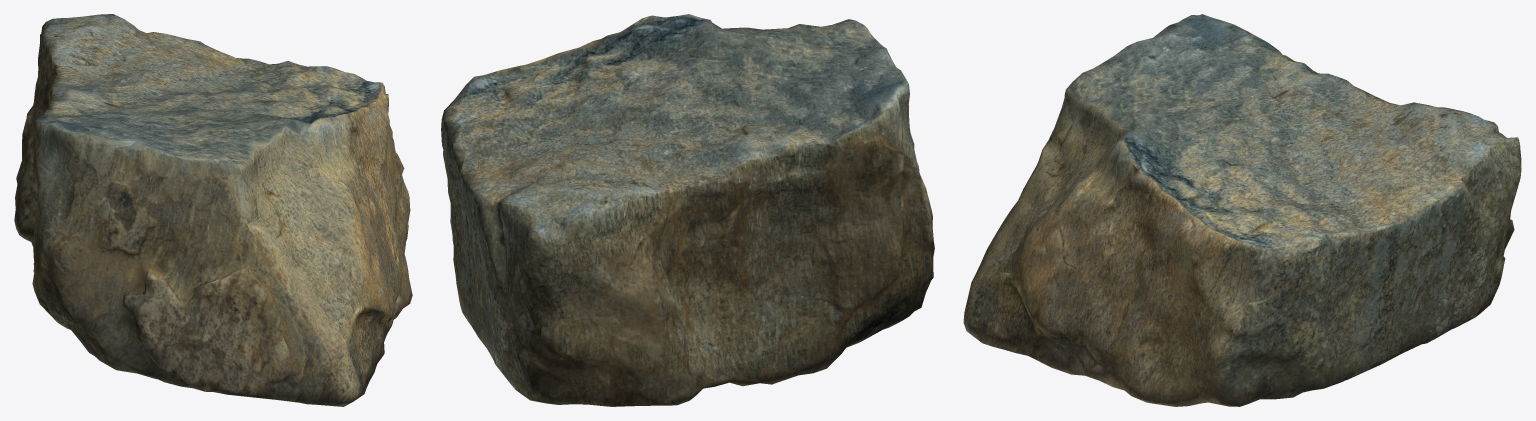
The model's file is namaqualand_boulder_03.glb.
3 views of the same model, side by side, from view 1: azimuth 30°, elevation 25°; view 2: azimuth 150°, elevation 25°; view 3: azimuth 270°, elevation 25° (orthographic). The views are drawn at different scales.
Parts seen in each view (by area): view 1: boulder_03_LOD0; view 2: boulder_03_LOD0; view 3: boulder_03_LOD0.
Boxes of the visible parts, x1=… form: boulder_03_LOD0: x1=14, y1=14, x2=412, y2=406; boulder_03_LOD0: x1=441, y1=14, x2=934, y2=406; boulder_03_LOD0: x1=963, y1=14, x2=1521, y2=406.
Bounding box in the file's own units: 2.4 × 1.48 × 3.06.
Materials: 1 (1 with a texture image).
